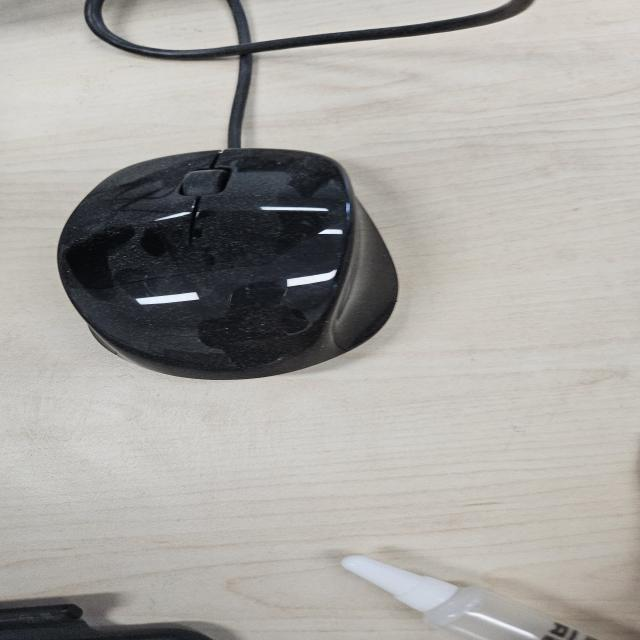Mouse: (54, 146, 402, 381)
